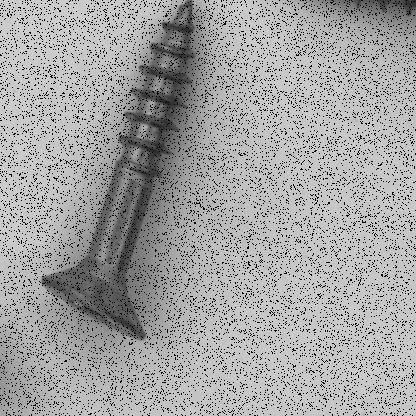metal: (42, 0, 194, 342)
